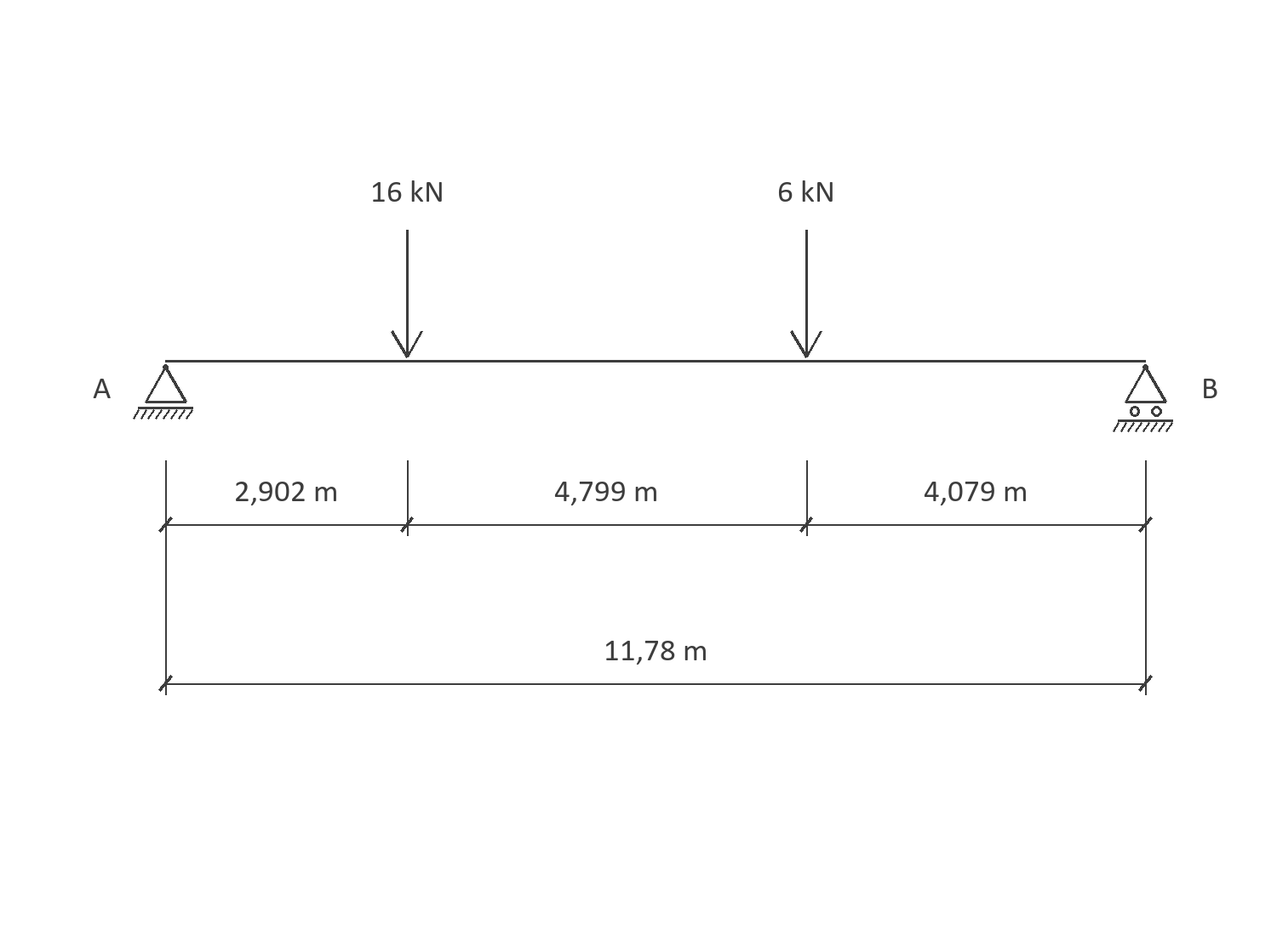pin_support: (133, 364, 193, 419)
point_load: (391, 230, 423, 358), (790, 230, 822, 358)
roller_support: (1113, 364, 1173, 432)
